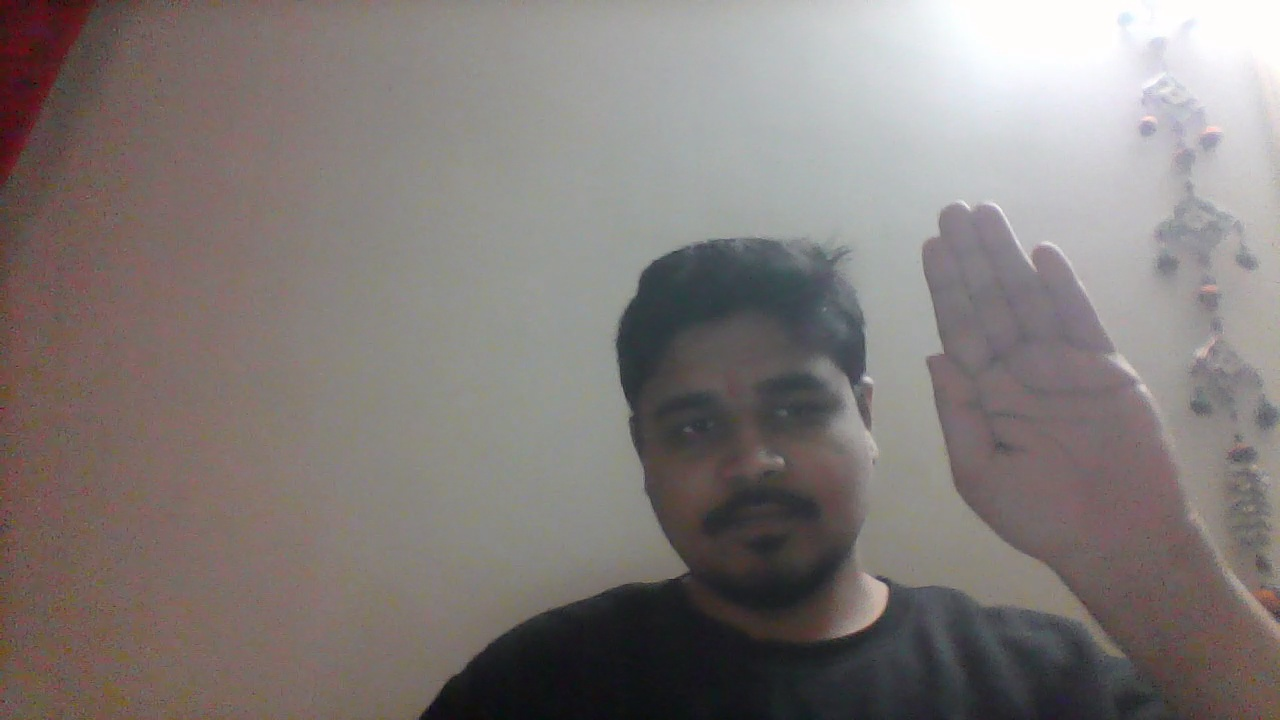Hello: (918, 200, 1180, 581)
